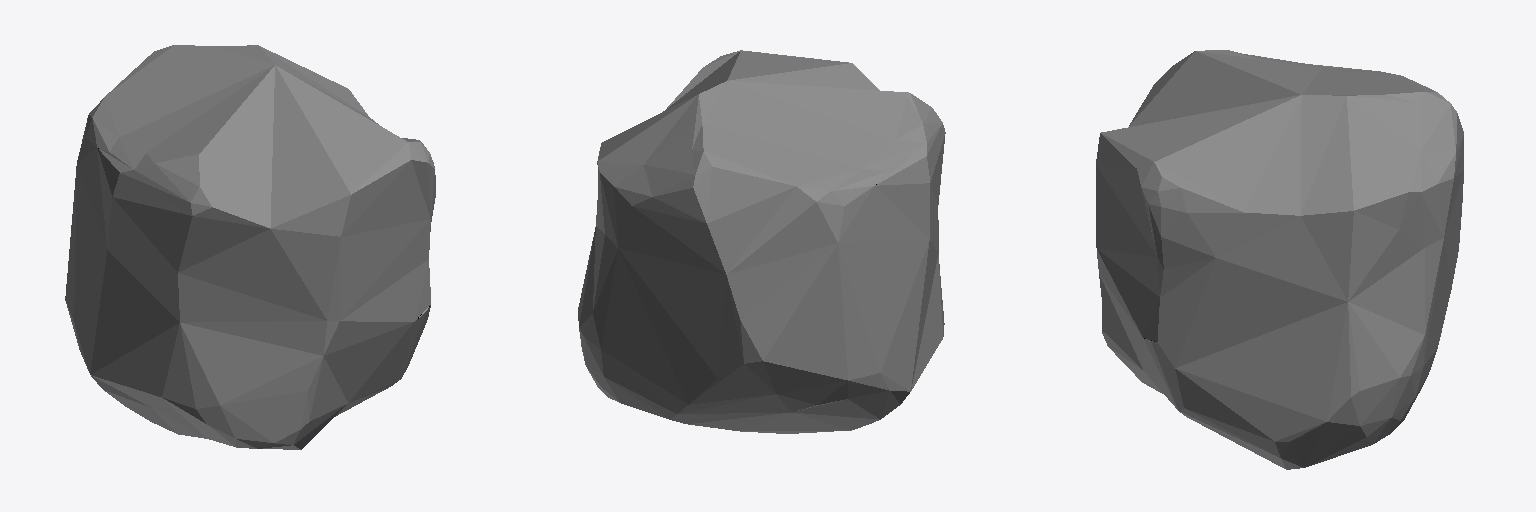
3 renders of one model, left to right at view 1: azimuth 30°, elevation 25°; view 2: azimuth 150°, elevation 25°; view 3: azimuth 270°, elevation 25°, orthographic.
Visible parts, largest first — view 1: Cube; view 2: Cube; view 3: Cube.
Part boxes in pixels (x1,y1,x2,y2): Cube: (65, 45, 435, 449); Cube: (578, 50, 945, 433); Cube: (1096, 50, 1463, 469).
Size of the model in its own units: 1.79 by 1.95 by 1.84.
Materials: 1 (1 with a texture image).